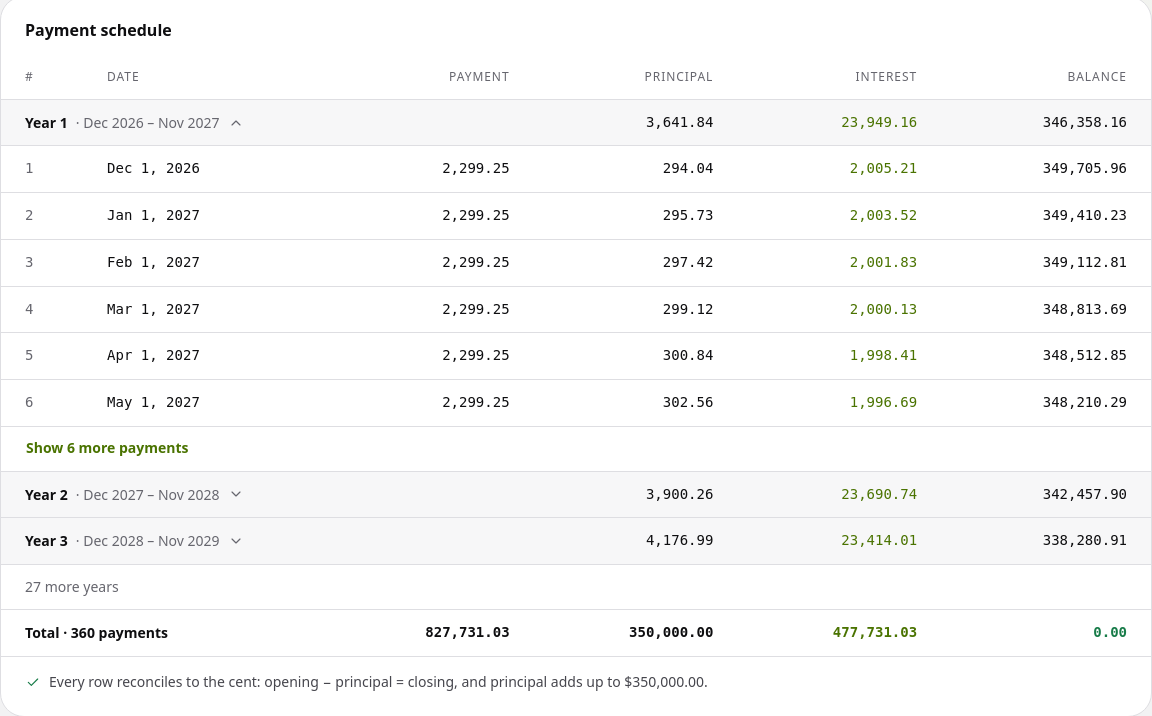
Test case: ScheduleCard — design scenario table › shows years 2 and 3 collapsed, then reveals the other 27 years collapsed
The image size is (1152, 716).
Expected: the buttons read "Year 2 · Dec 2027 – Nov 2028", "Year 3 · Dec 2028 – Nov 2029", in this order, x1=25 y1=472 x2=244 y2=516; x1=25 y1=519 x2=244 y2=563
Click the button "27 more years". click: click(72, 587)
box: x1=25 y1=565 x2=119 y2=609
(page scrolled)
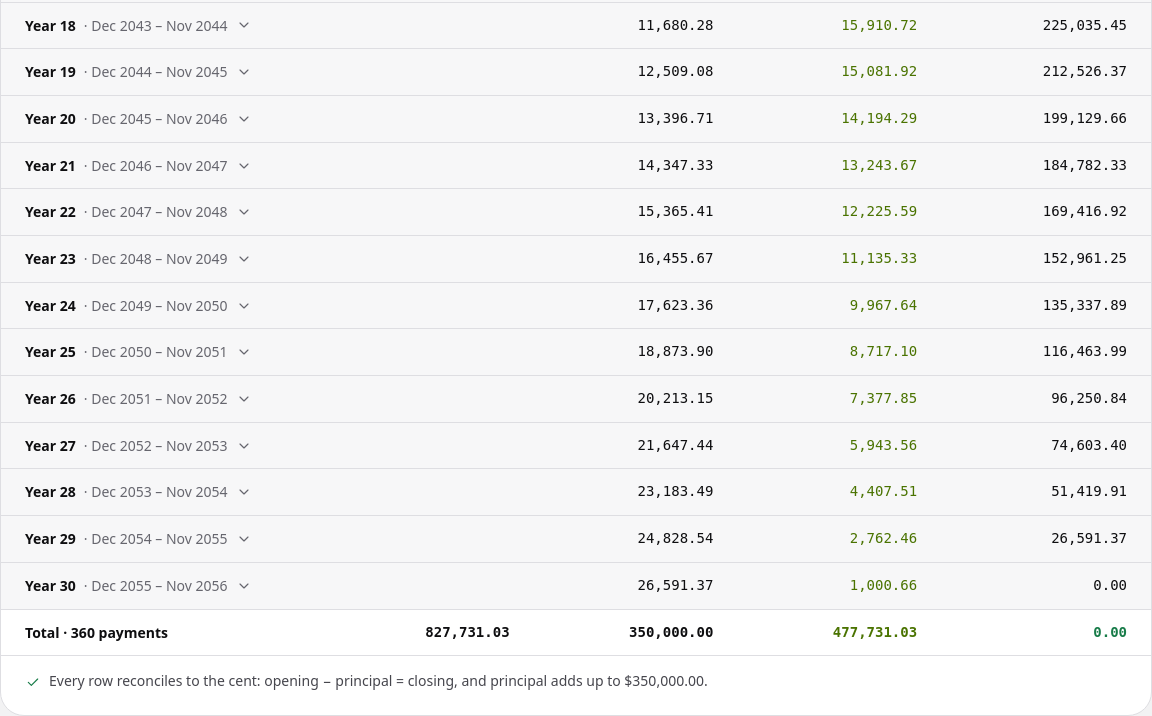
Expected: the button "27 more years" is gone
Expected: the button "Year 30 · Dec 2055 – Nov 2056" is shown, x1=25 y1=564 x2=252 y2=608
